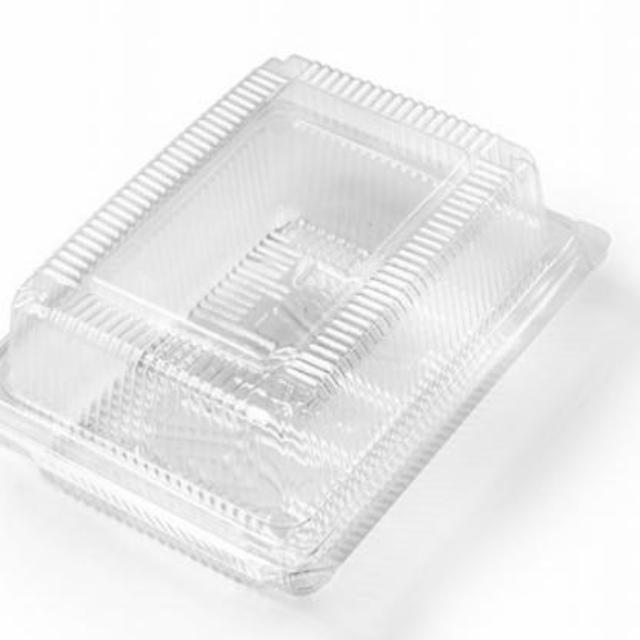plastic_box: (1, 49, 614, 607)
